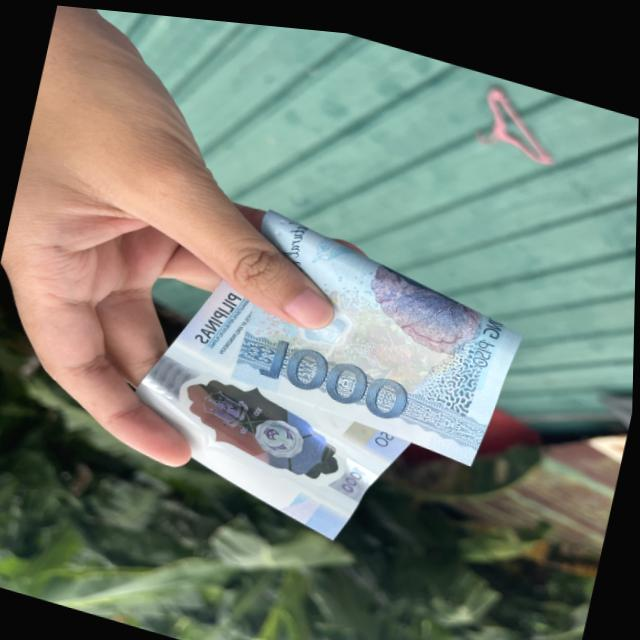clear_window: (128, 330, 397, 514)
